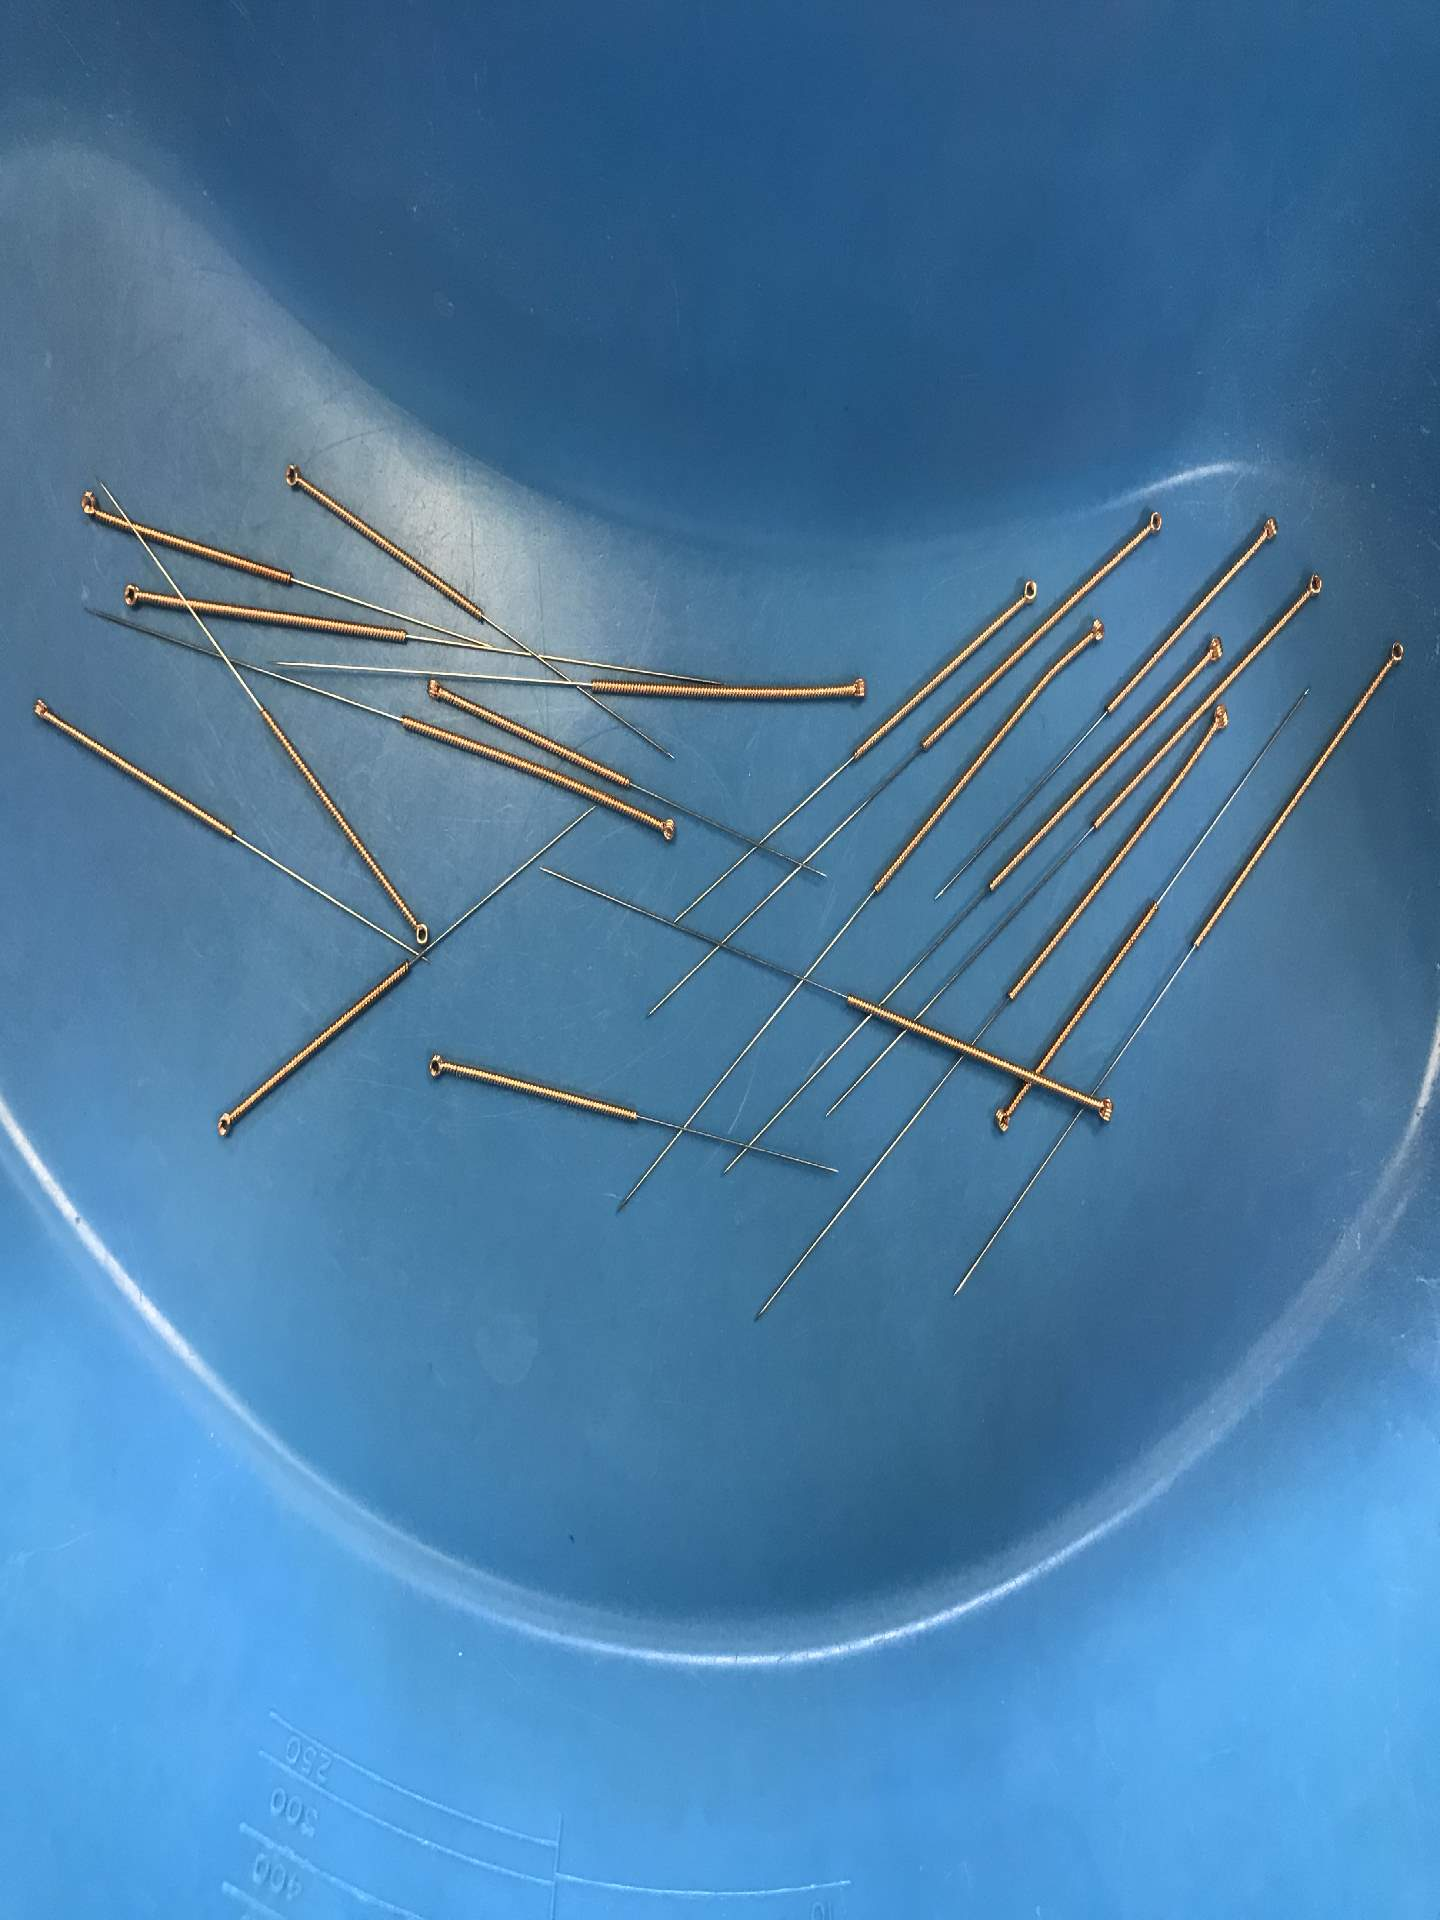needle: (110, 576, 150, 614), (836, 670, 876, 708), (1077, 609, 1115, 649), (985, 1098, 1019, 1140), (1134, 503, 1172, 541), (1085, 1090, 1121, 1129), (1249, 508, 1286, 547), (275, 457, 310, 496), (209, 1105, 244, 1144), (650, 809, 684, 850), (73, 482, 104, 525), (419, 1048, 454, 1085), (1010, 571, 1045, 609), (416, 673, 451, 709), (24, 691, 57, 729), (1196, 629, 1230, 667), (1296, 565, 1330, 602), (1381, 633, 1411, 671), (404, 909, 433, 945), (1206, 701, 1234, 735)
